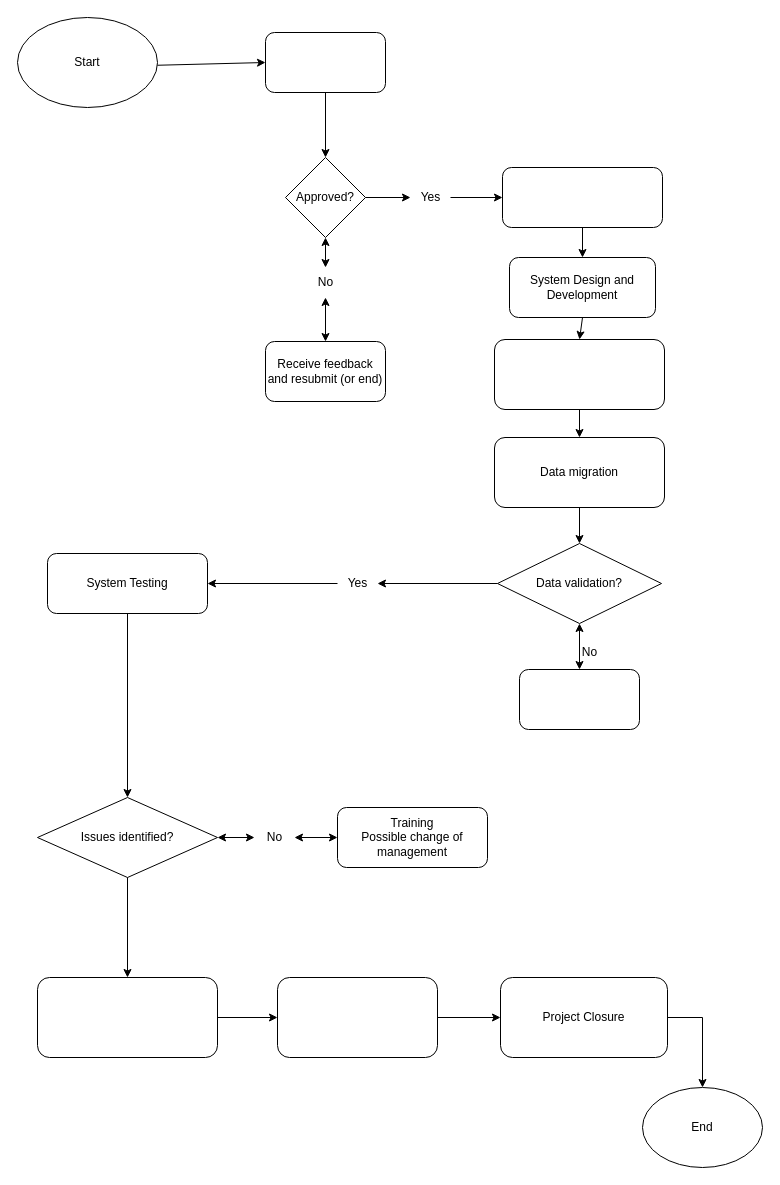
Some shapes in this 780 by 1185 pixel diagram are drawn without their labels. The shapes that lost their labels are listed below. From the top down, each one's box as (x1, y1, x2, y2) in pixels, then its label:
(264, 32, 386, 92): Project Initiation
(502, 166, 662, 228): Identify Stakeholders Gather requirements
(494, 338, 664, 410): Data preparation and digitization
(518, 668, 640, 730): Fix it!
(36, 976, 218, 1058): Fix issues
(276, 976, 438, 1058): System Rollout
